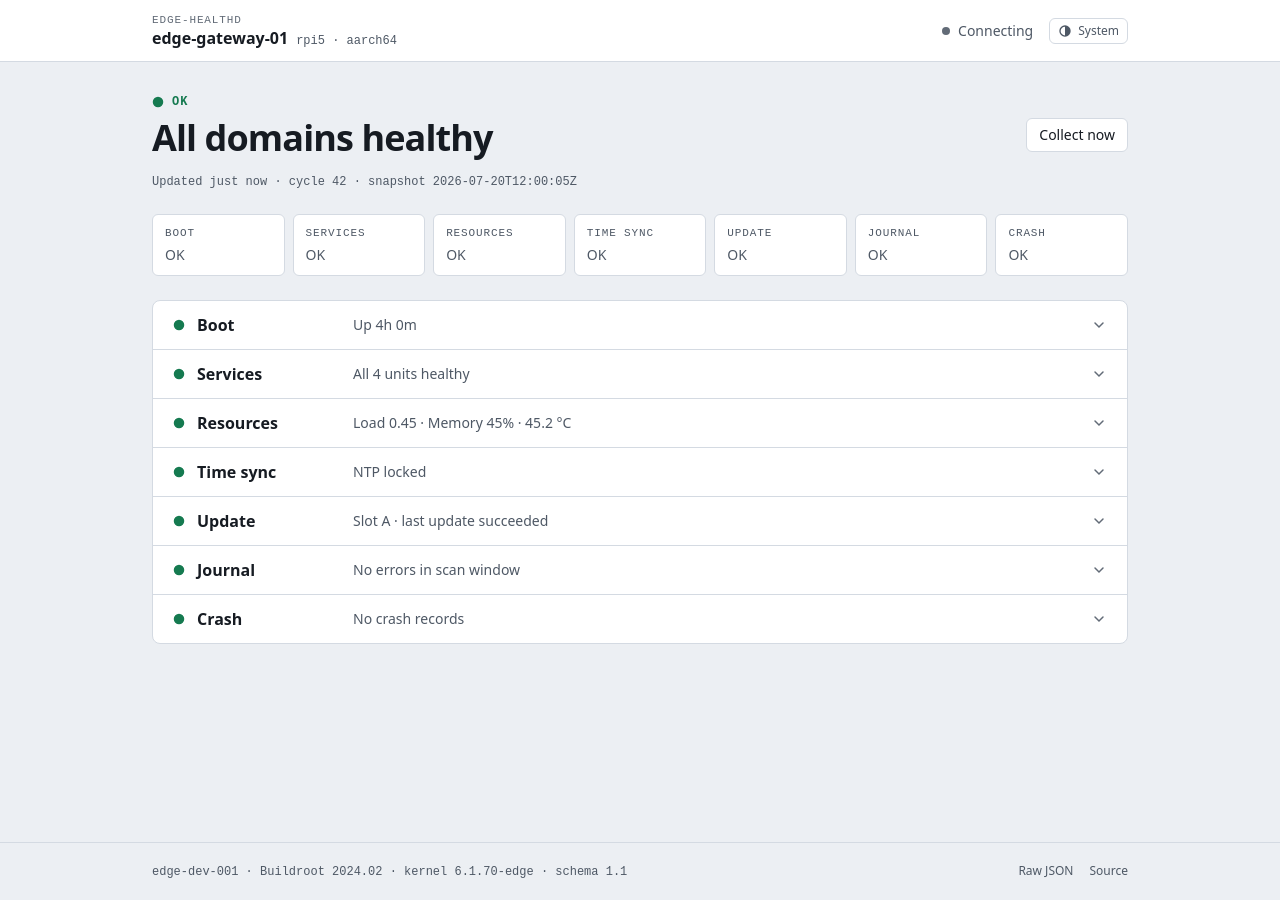
Test: App › opens a domain from its annunciator tile and records it in the URL
Click the button with aria-label "Journal: OK. Show details" at [921, 245], box 855,214 -> 987,276
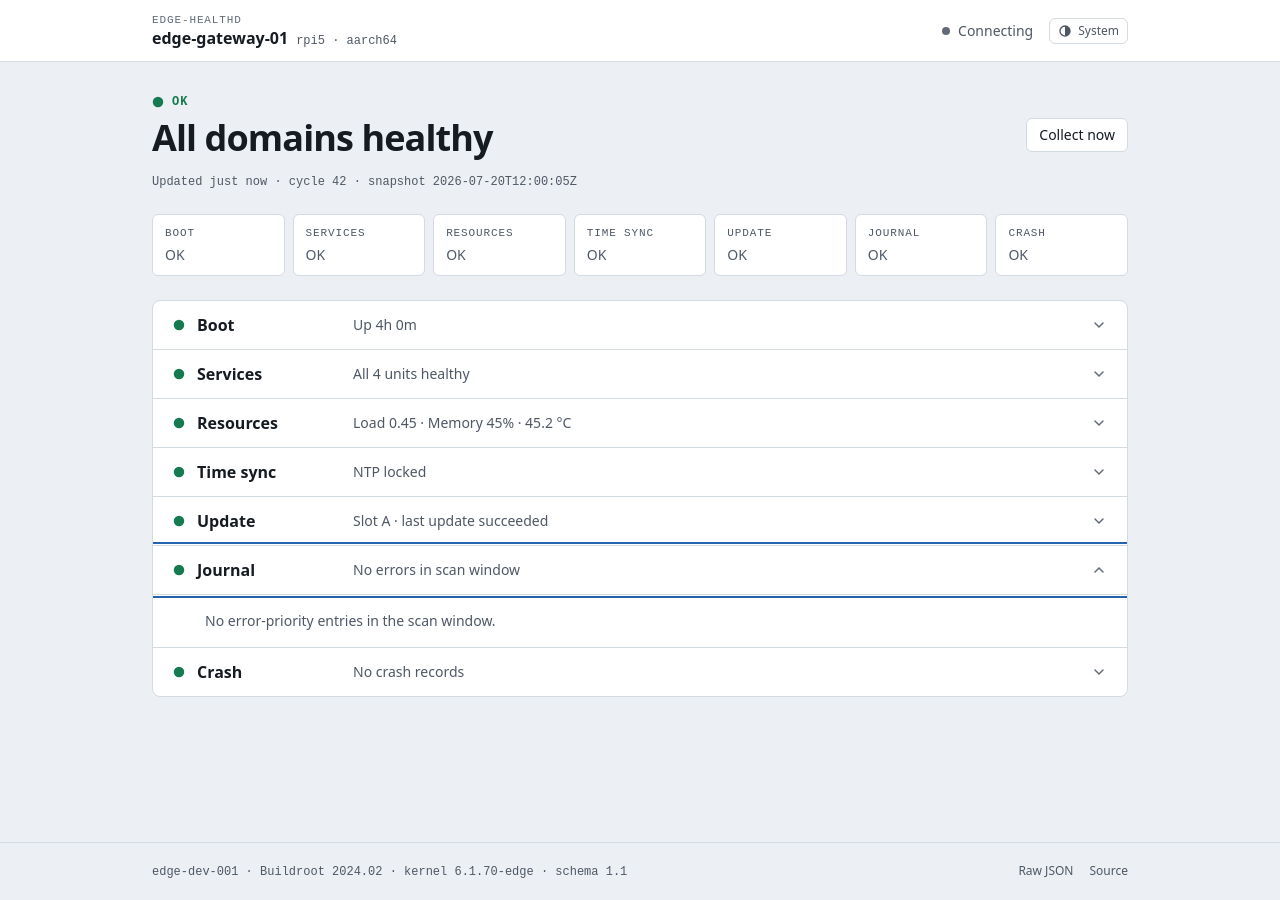
Expected: the button "Journal No errors in scan window" is expanded, 153,546 -> 1127,594
